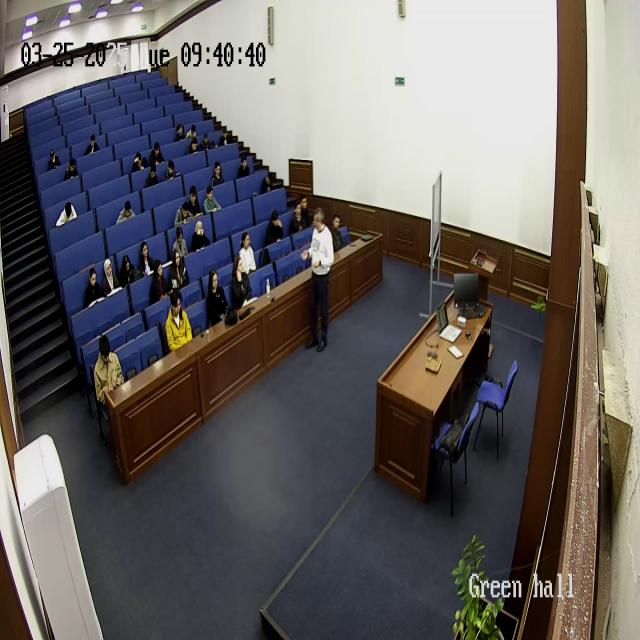person: (301, 207, 335, 350), (93, 335, 125, 440), (165, 291, 194, 351), (205, 268, 229, 328), (229, 255, 253, 312), (168, 247, 190, 292), (238, 230, 258, 276), (149, 259, 169, 305), (84, 266, 104, 308), (102, 257, 121, 298), (265, 208, 284, 246), (119, 253, 139, 289), (190, 218, 210, 252), (137, 241, 155, 277), (329, 213, 345, 251), (289, 202, 307, 235), (186, 185, 204, 218), (172, 227, 189, 260), (174, 200, 194, 227), (203, 184, 221, 214), (56, 202, 78, 226), (116, 199, 135, 224), (260, 170, 276, 193), (211, 161, 225, 187), (84, 134, 100, 156), (146, 164, 160, 188), (149, 143, 164, 165), (237, 154, 250, 178), (66, 158, 80, 180), (47, 148, 61, 170), (301, 188, 311, 218), (132, 152, 146, 173), (165, 159, 179, 180), (187, 133, 201, 154), (221, 128, 234, 147), (174, 124, 187, 142), (187, 118, 198, 138), (202, 132, 212, 150)
